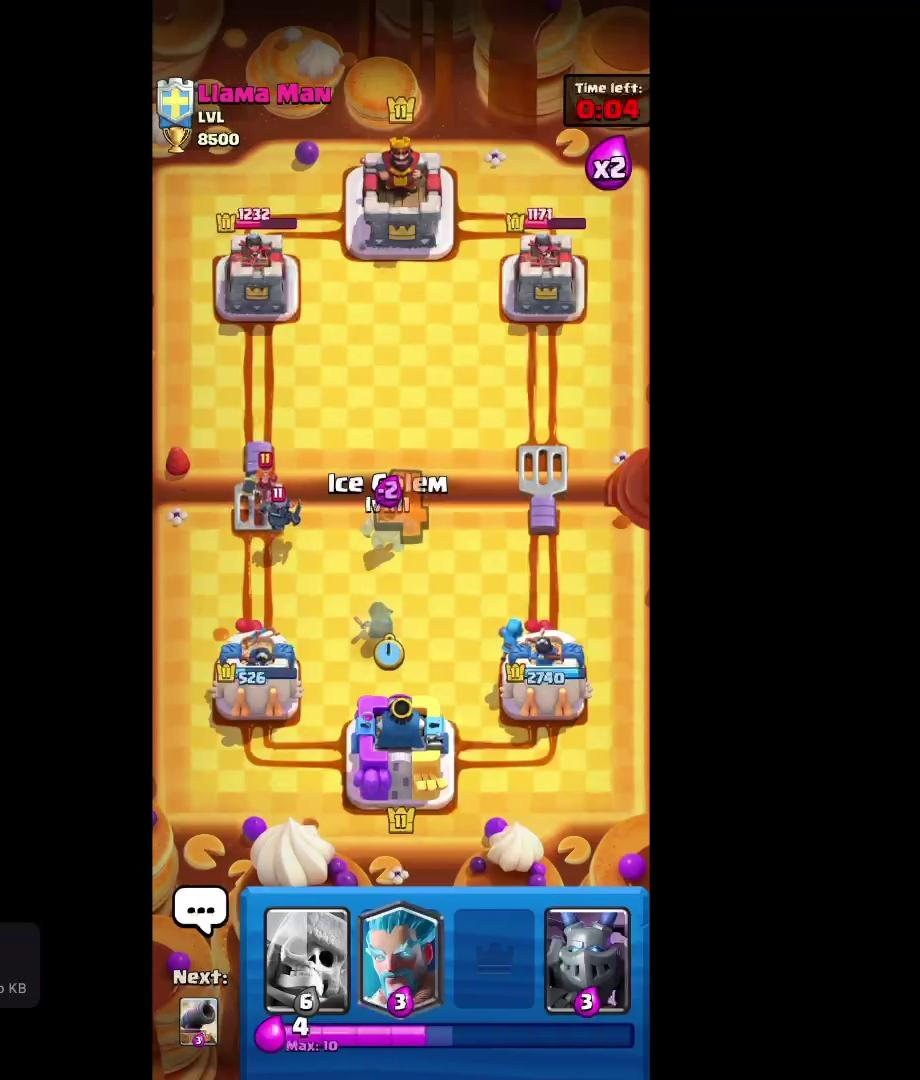Mini Pekka: (260, 486, 312, 536)
Valkyrie: (247, 446, 282, 501)
